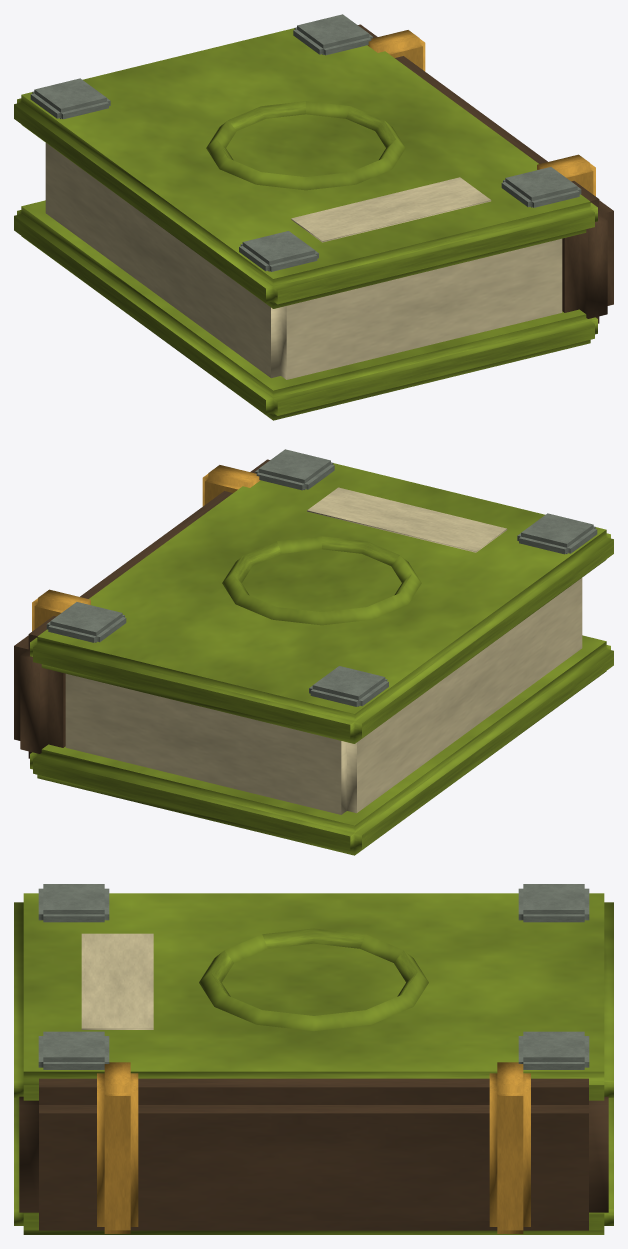
File: item-VerdigrisBloomGrimoire.fbx
3 views of the same model, one above another, from view 1: azimuth 30°, elevation 25°; view 2: azimuth 150°, elevation 25°; view 3: azimuth 270°, elevation 25° (orthographic). The views are drawn at different scales.
Parts seen in each view (by area): view 1: item-VerdigrisBloomGrimoire__Geometry; view 2: item-VerdigrisBloomGrimoire__Geometry; view 3: item-VerdigrisBloomGrimoire__Geometry.
Part boxes in pixels (bbox=[...]): item-VerdigrisBloomGrimoire__Geometry: bbox=[14, 14, 613, 420]; item-VerdigrisBloomGrimoire__Geometry: bbox=[14, 449, 613, 855]; item-VerdigrisBloomGrimoire__Geometry: bbox=[14, 884, 613, 1234].
Bounding box in the file's own units: 0.445 × 0.177 × 0.55.
1 material, 1 textured.
